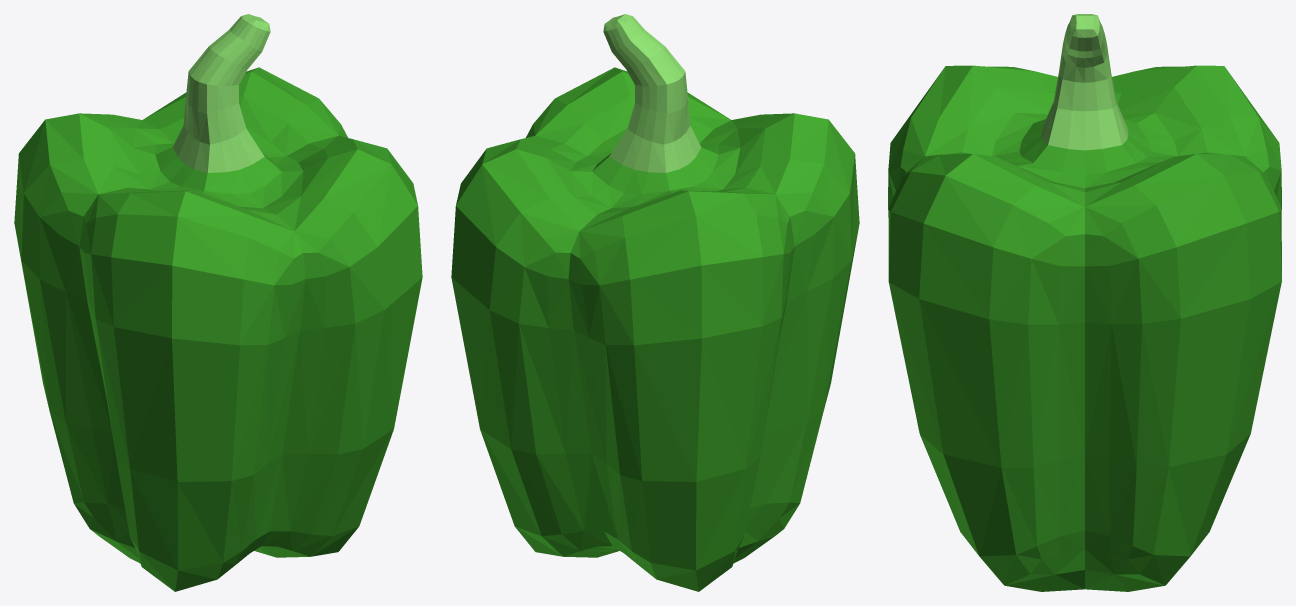
File: Pepper_Green.obj
3 renders of one model, left to right at view 1: azimuth 30°, elevation 25°; view 2: azimuth 150°, elevation 25°; view 3: azimuth 270°, elevation 25°, orthographic. The views are drawn at different scales.
Visible parts, largest first — view 1: Pepper_Green_Green, Pepper_Green_PaleGreen; view 2: Pepper_Green_Green, Pepper_Green_PaleGreen; view 3: Pepper_Green_Green, Pepper_Green_PaleGreen.
Part boxes in pixels (box(x1,y1,x2,y2)): Pepper_Green_Green: box(14, 67, 422, 591); Pepper_Green_PaleGreen: box(172, 14, 270, 172); Pepper_Green_Green: box(451, 67, 859, 591); Pepper_Green_PaleGreen: box(603, 14, 701, 172); Pepper_Green_Green: box(888, 65, 1281, 591); Pepper_Green_PaleGreen: box(1041, 14, 1128, 150).
Bounding box in the file's own units: 0.674 × 1.12 × 0.7118.
